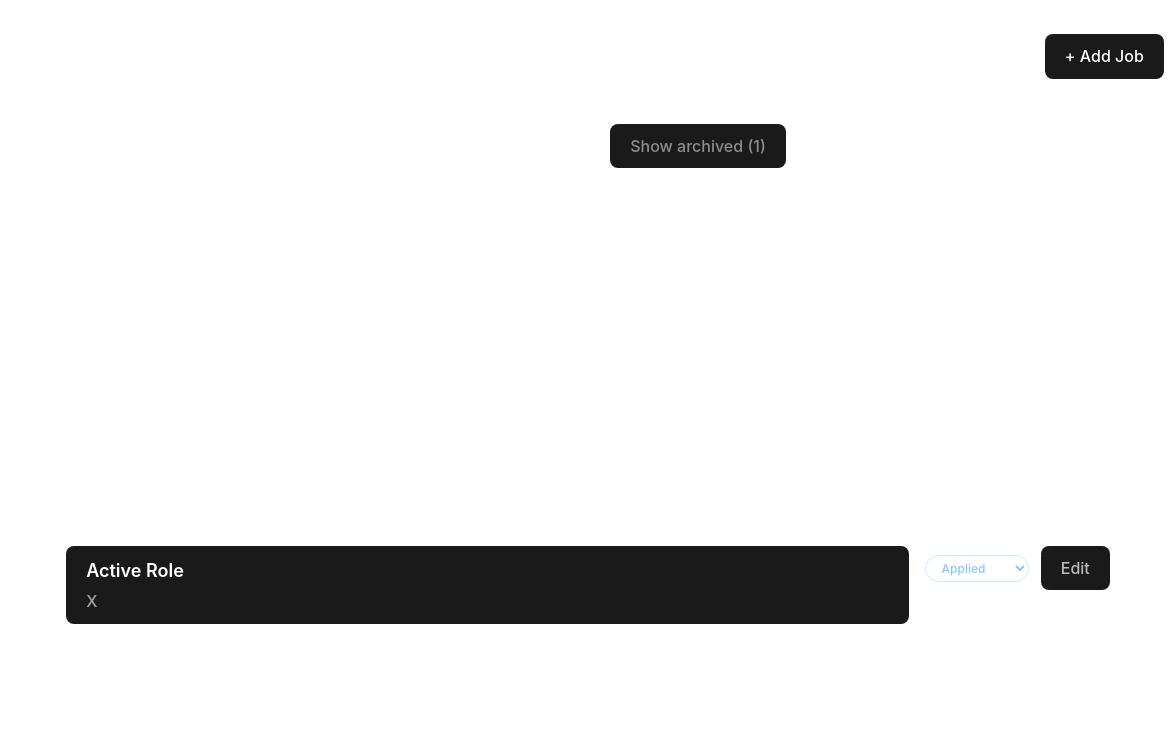
Test: DashboardPage › hides archived jobs by default and shows them when the toggle is flipped (SCRUM-51)
Expected: the heading "Active Role" is shown, [86, 560, 184, 581]
Expected: the text "Archived Role" is not shown
Click the button with aria-label "show archived jobs": (698, 146) [610, 124, 786, 168]
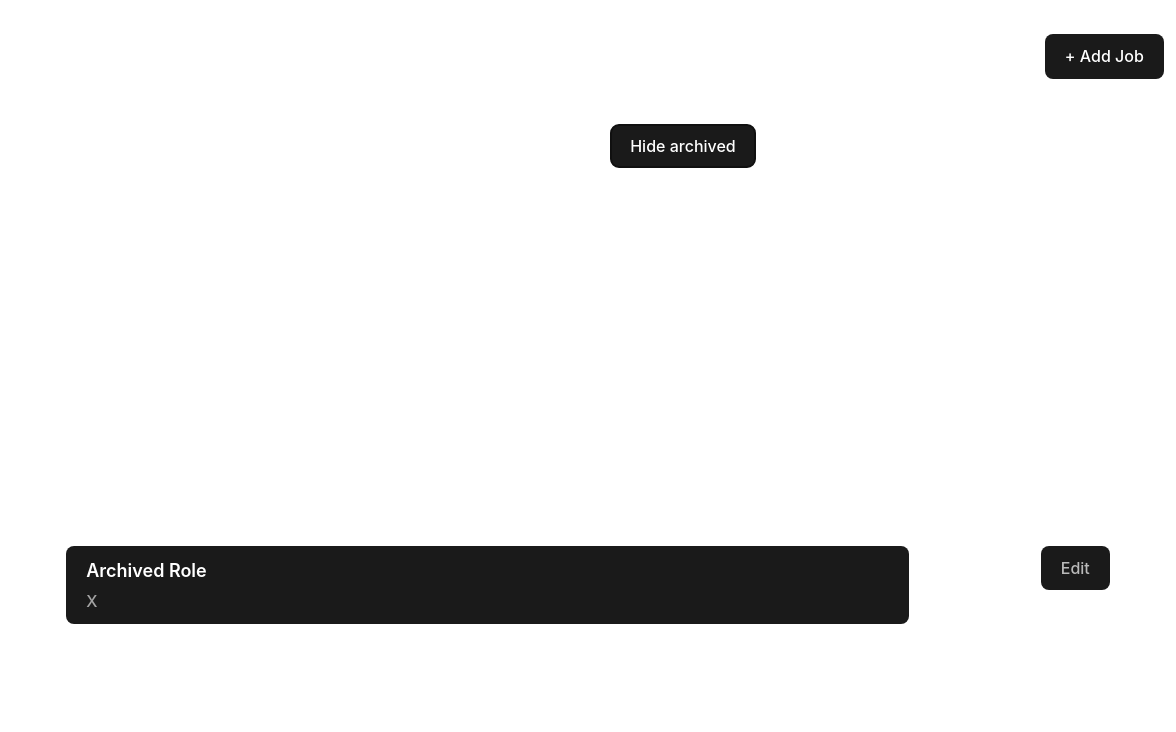
Result: the heading "Archived Role" is shown at [86, 560, 207, 581]
Click the button with aria-label "hide archived jobs": (683, 146) [610, 124, 756, 168]
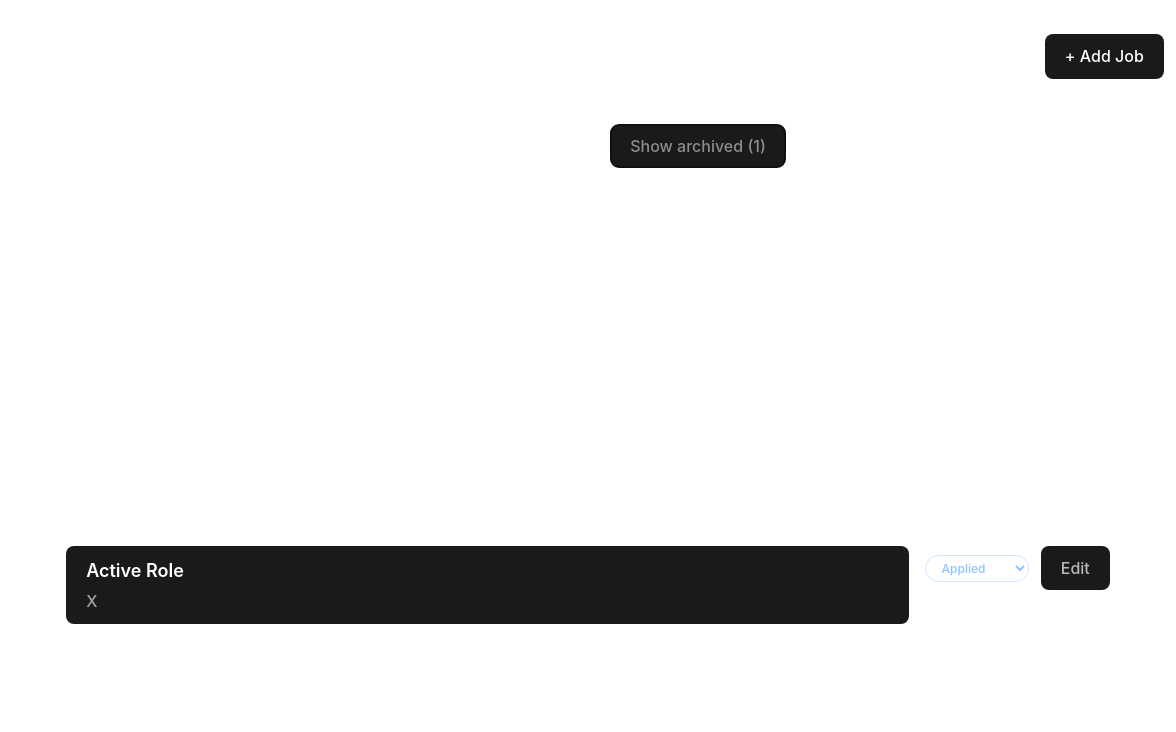
Result: the button "Archived Role" is gone
